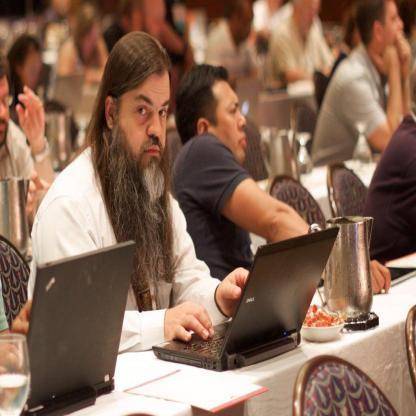board: (144, 226, 344, 380), (20, 243, 135, 415)
